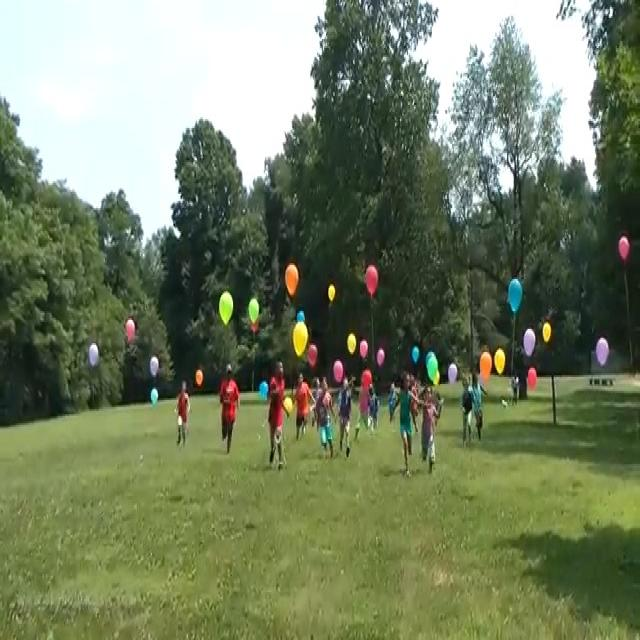balloon: (293, 322, 307, 359), (220, 293, 232, 324), (511, 278, 521, 312), (480, 354, 492, 380), (597, 339, 609, 365), (288, 264, 298, 295), (524, 331, 535, 356), (367, 265, 377, 291), (428, 352, 437, 380), (619, 237, 630, 259), (495, 351, 505, 372), (362, 368, 372, 388), (250, 299, 258, 322), (88, 346, 98, 364), (150, 357, 160, 375), (259, 381, 269, 398), (126, 319, 134, 340), (333, 362, 342, 380), (310, 346, 320, 362), (284, 396, 294, 412), (359, 342, 367, 361), (530, 370, 538, 389), (348, 333, 356, 351), (378, 348, 386, 365), (195, 372, 203, 387), (544, 324, 552, 339), (151, 389, 158, 406), (450, 366, 457, 383), (412, 350, 420, 364), (329, 284, 334, 304), (297, 310, 305, 322), (435, 372, 441, 386)
